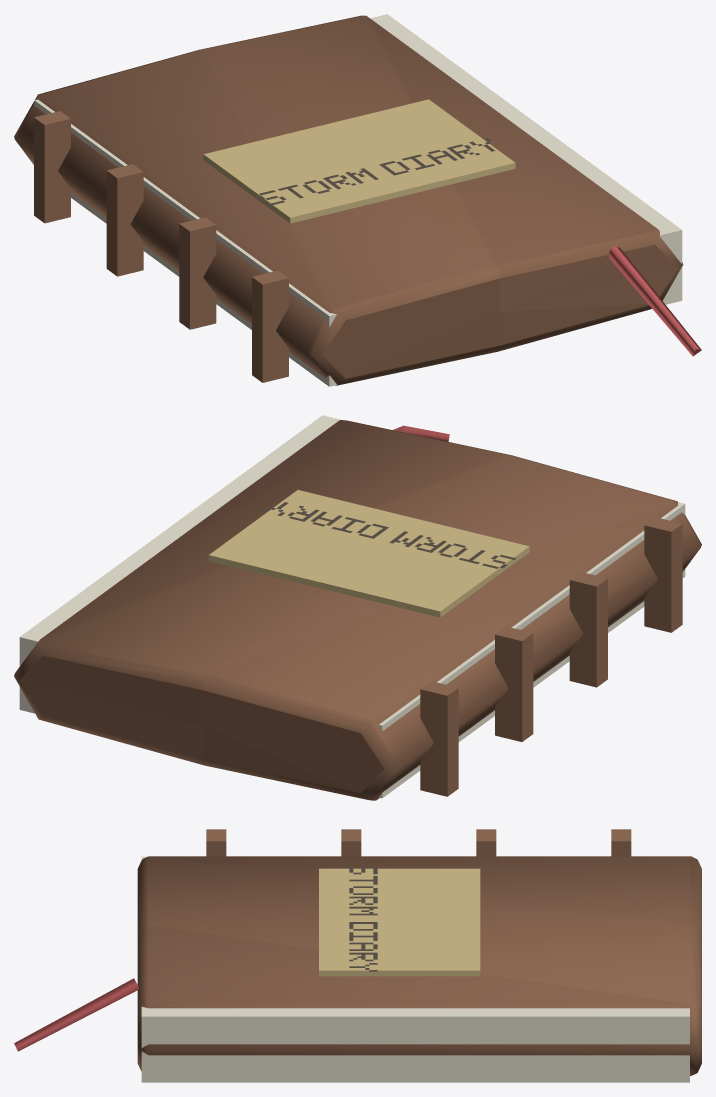
The model's file is storm_diary_a.glb.
The picture shows the model from 3 angles, top to bottom: view 1: azimuth 30°, elevation 25°; view 2: azimuth 150°, elevation 25°; view 3: azimuth 270°, elevation 25°; orthographic projection. The views are drawn at different scales.
Parts seen in each view (by area): view 1: body; view 2: body; view 3: body.
Boxes of the visible parts, <box> form: body: <box>14,14,701,386</box>; body: <box>14,415,701,800</box>; body: <box>14,829,701,1082</box>.
Bounding box in the file's own units: 0.207 × 0.051 × 0.3414.
